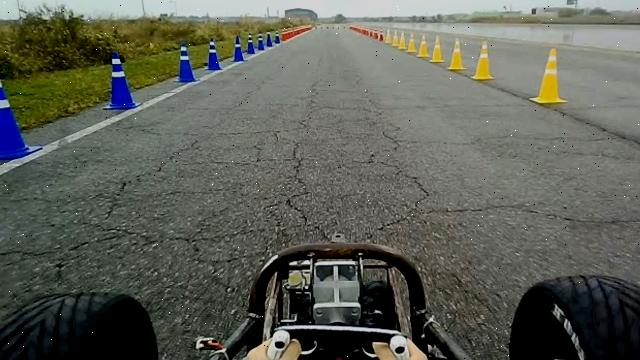blue cone: (0, 66, 43, 160), (102, 50, 140, 109), (173, 41, 198, 83), (204, 38, 222, 70), (230, 34, 245, 62), (246, 32, 255, 54), (257, 33, 265, 50), (274, 30, 281, 44), (266, 31, 272, 47)
yellow cone: (529, 47, 568, 104), (470, 40, 495, 80), (446, 37, 466, 70), (429, 34, 445, 63), (416, 33, 429, 58), (406, 33, 417, 54), (397, 31, 407, 50), (391, 30, 399, 47), (384, 30, 392, 44)
